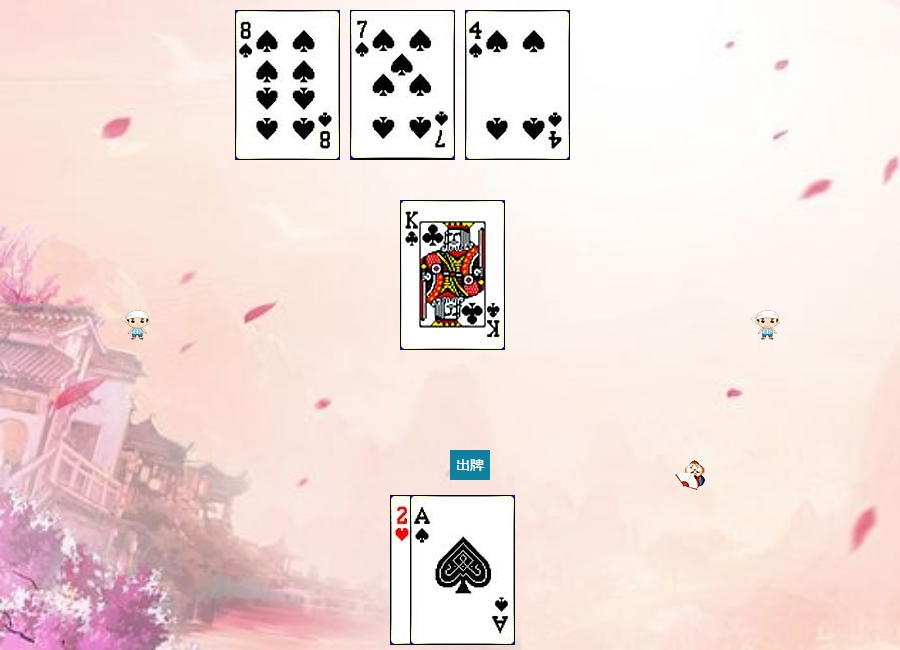13~2: (400, 200, 505, 350)
14~4: (410, 495, 515, 645)
15~3: (390, 495, 495, 645)
4~4: (465, 10, 570, 160)
7~4: (350, 10, 455, 160)
8~4: (235, 10, 340, 160)
